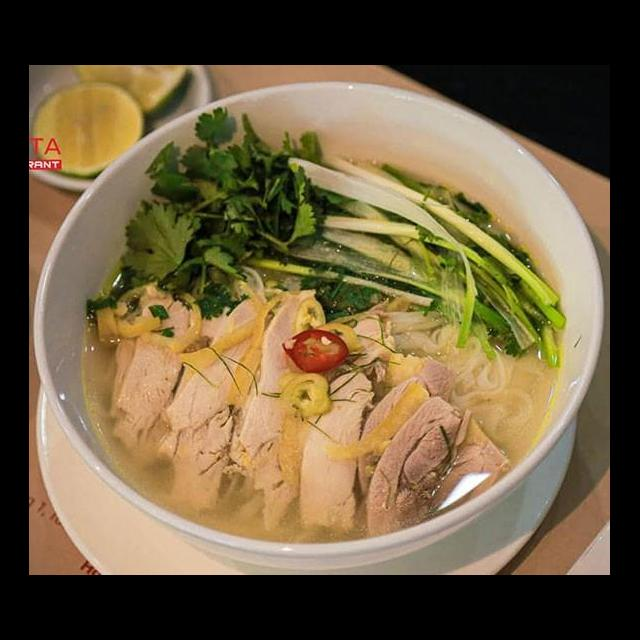banh pho: (381, 301, 538, 447)
pho ga: (45, 126, 606, 575)
thit ga: (150, 277, 290, 517), (230, 283, 342, 535), (94, 276, 205, 473), (352, 373, 463, 548), (287, 367, 378, 539), (306, 288, 416, 399), (420, 402, 516, 526), (372, 348, 458, 440)
